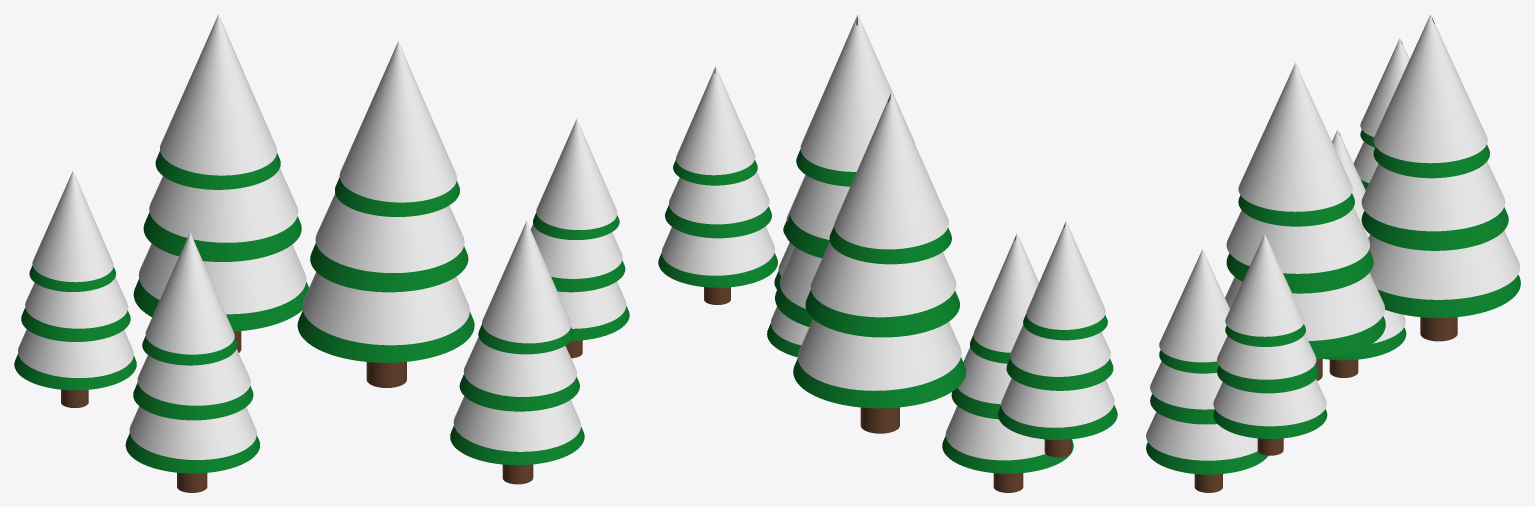
Rendered from arvoresFundo.glb.
3 views of the same model, side by side, from view 1: azimuth 30°, elevation 25°; view 2: azimuth 150°, elevation 25°; view 3: azimuth 270°, elevation 25° (orthographic). The views are drawn at different scales.
Parts seen in each view (by area): view 1: mesh_id381, mesh_id223, mesh_id379, mesh_id383, mesh_id229, mesh_id291, mesh_id398, mesh_id235, mesh_id270, mesh_id385, mesh_id393, mesh_id289 (+25 smaller); view 2: mesh_id223, mesh_id235, mesh_id381, mesh_id229, mesh_id270, mesh_id385, mesh_id291, mesh_id390, mesh_id266, mesh_id387, mesh_id269, mesh_id217 (+21 smaller); view 3: mesh_id381, mesh_id223, mesh_id235, mesh_id229, mesh_id383, mesh_id398, mesh_id385, mesh_id379, mesh_id390, mesh_id393, mesh_id387, mesh_id211 (+21 smaller).
Part boxes in pixels (x1,y1,x2,y2): mesh_id381: (339,41,456,202); mesh_id223: (160,14,277,175); mesh_id379: (302,272,469,345); mesh_id383: (315,193,464,272); mesh_id229: (149,168,298,242); mesh_id291: (145,232,234,354); mesh_id398: (482,221,571,343); mesh_id235: (138,243,306,314); mesh_id270: (32,171,113,282); mesh_id385: (536,118,617,229); mesh_id393: (453,396,580,451); mesh_id289: (129,406,256,459); mesh_id223: (834,92,948,249); mesh_id235: (797,319,961,390); mesh_id381: (800,14,914,171); mesh_id229: (810,242,956,317); mesh_id270: (1026,221,1105,329); mesh_id385: (676,66,755,175); mesh_id291: (973,233,1038,352); mesh_id390: (661,226,774,275); mesh_id266: (1001,378,1114,427); mesh_id387: (669,172,769,224); mesh_id269: (1010,325,1110,376); mesh_id217: (793,357,965,408); mesh_id381: (1238,63,1352,211); mesh_id223: (1373,14,1487,163); mesh_id235: (1368,230,1520,299); mesh_id229: (1361,161,1505,231); mesh_id383: (1226,207,1369,273); mesh_id398: (1159,249,1229,362); mesh_id385: (1225,234,1304,336); mesh_id379: (1225,273,1384,340); mesh_id390: (1213,379,1326,426); mesh_id393: (1146,412,1257,460); mesh_id387: (1217,334,1316,379); mesh_id211: (1361,207,1508,250).
Size of the model in its own units: 0.6491 by 0.4958 by 0.4305.
9 materials, 9 textured.
